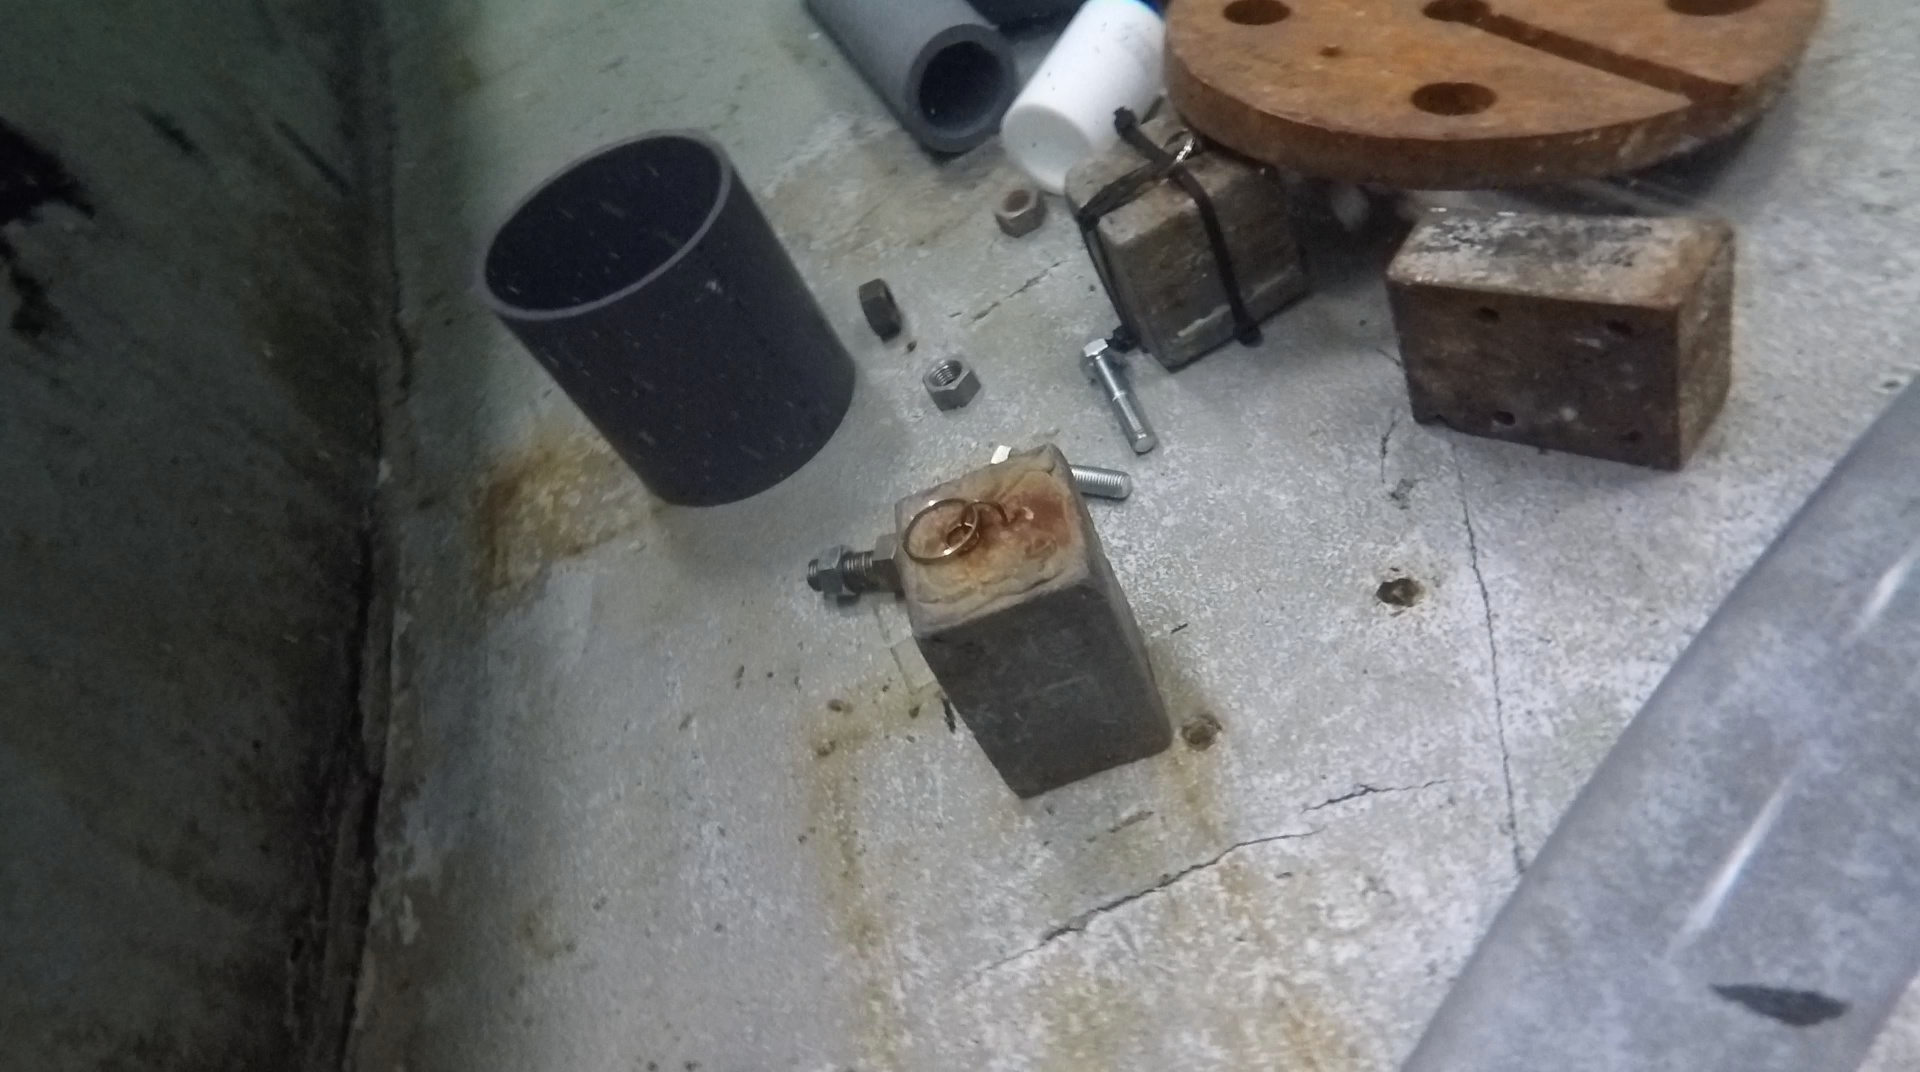bolt: (1075, 338, 1155, 456), (985, 442, 1135, 500), (806, 531, 895, 593)
flange: (1164, 1, 1485, 193)
led_block: (895, 447, 1178, 803), (1386, 200, 1743, 477), (1062, 117, 1324, 373)
nut: (920, 353, 981, 411), (857, 277, 902, 340), (996, 185, 1044, 237), (819, 542, 858, 603)
pipe: (1379, 377, 1920, 1069), (477, 131, 858, 510), (807, 1, 1014, 160), (990, 1, 1155, 194)
